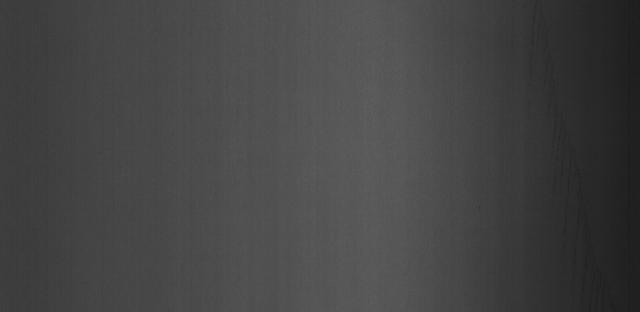water_spot: (520, 10, 616, 293)
